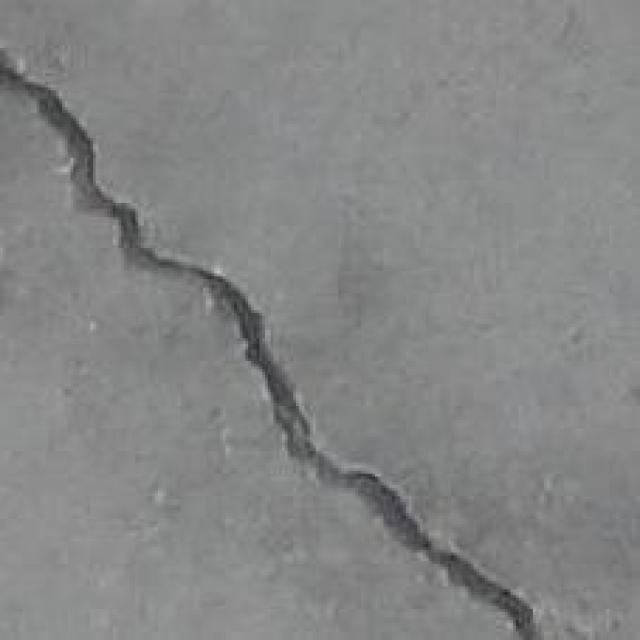Crack: (0, 56, 567, 640)
